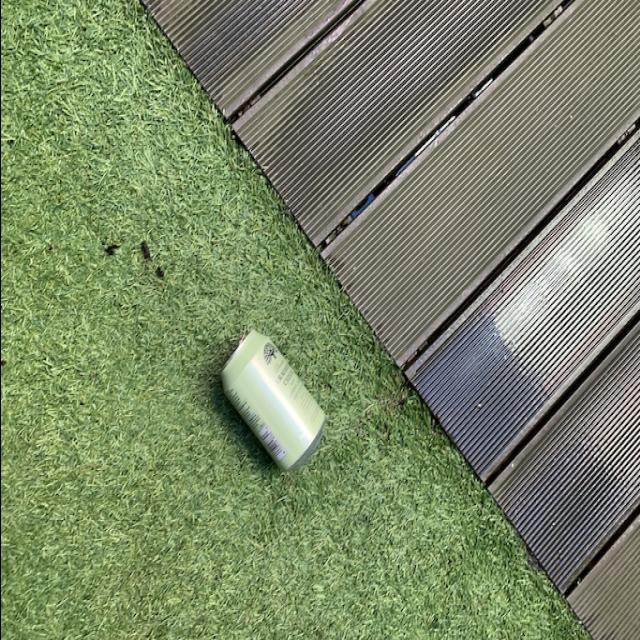Aluminum Can: (206, 332, 328, 487)
